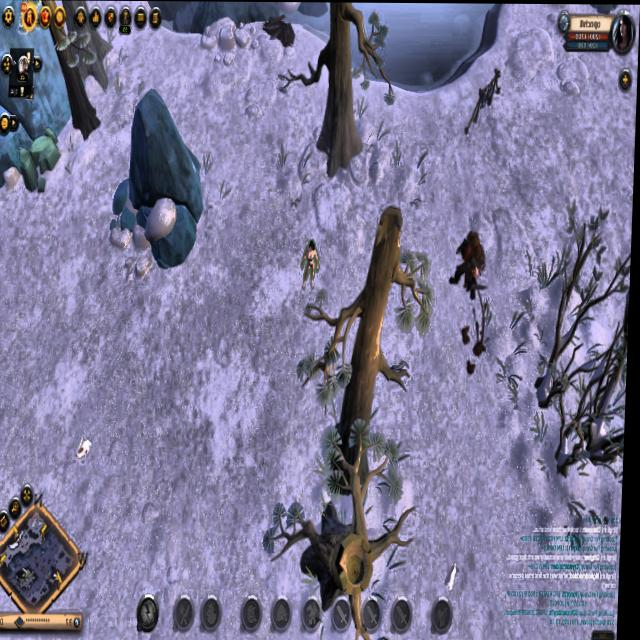mob: (451, 227, 488, 297)
sandstone: (8, 124, 61, 195)
